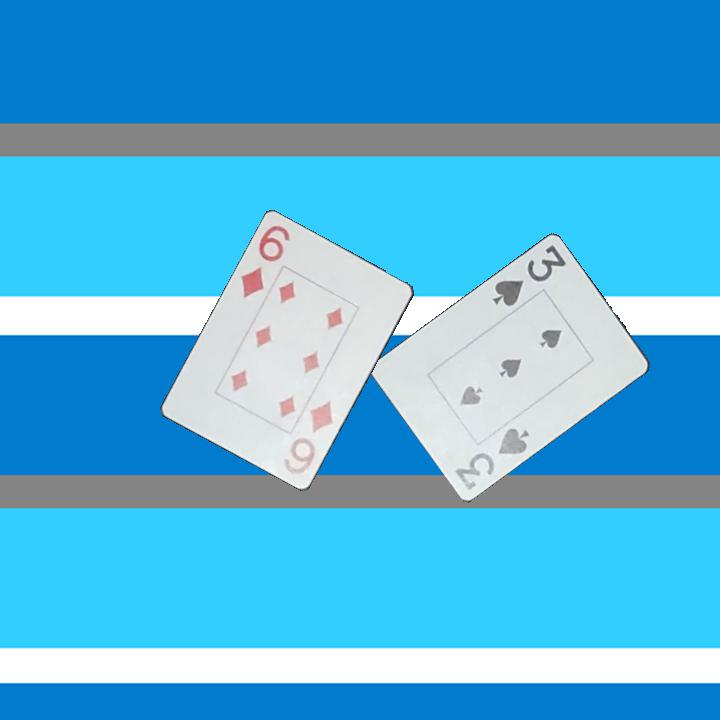3s: (451, 424, 532, 494), (488, 242, 569, 310)
6d: (280, 397, 336, 478), (237, 220, 293, 301)
